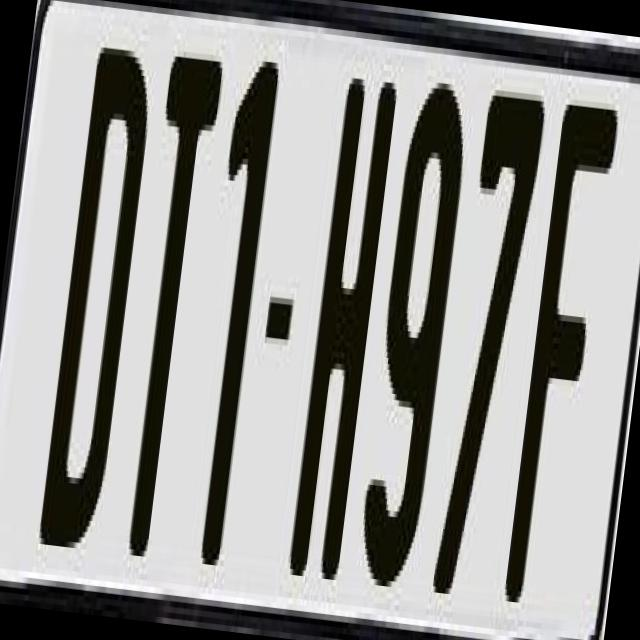1: (176, 46, 282, 588)
7: (422, 82, 552, 616)
9: (350, 68, 474, 590)
D: (31, 45, 155, 568)
F: (502, 103, 618, 612)
H: (281, 70, 399, 592)
T: (108, 55, 230, 582)
